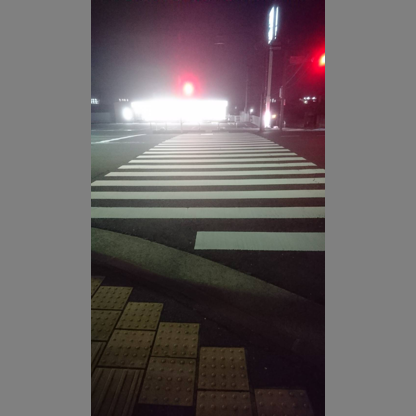brailleblock: (90, 276, 303, 414)
crosswalk: (94, 133, 324, 259)
